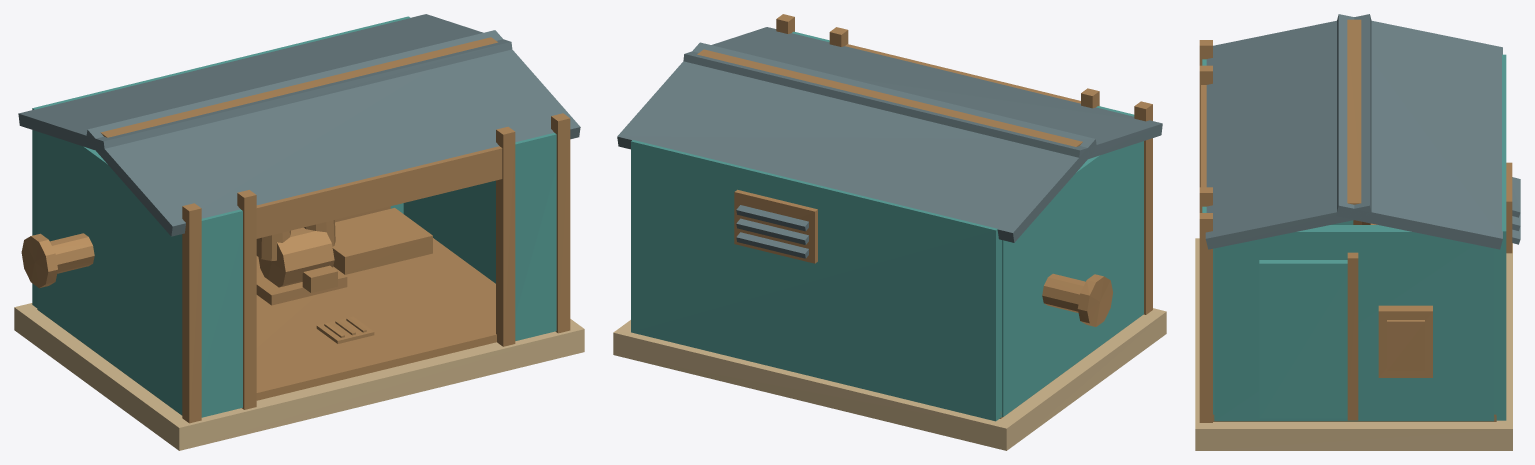
The model's file is Juicery.glb.
The picture shows the model from 3 angles, left to right: view 1: azimuth 30°, elevation 25°; view 2: azimuth 150°, elevation 25°; view 3: azimuth 270°, elevation 25°; orthographic projection. The views are drawn at different scales.
Visible parts, largest first — view 1: juicery-static-juicery-galvanized-roof-cooling, juicery-static-juicery-insulated-pale-panel, juicery-static-juicery-clean-stainless-equipment, juicery-static-juicery-dark-pump-service-trim, juicery-static-juicery-washable-stone-curb; view 2: juicery-static-juicery-insulated-pale-panel, juicery-static-juicery-galvanized-roof-cooling, juicery-static-juicery-washable-stone-curb, juicery-static-juicery-dark-pump-service-trim, juicery-static-juicery-clean-stainless-equipment; view 3: juicery-static-juicery-galvanized-roof-cooling, juicery-static-juicery-insulated-pale-panel, juicery-static-juicery-dark-pump-service-trim, juicery-static-juicery-washable-stone-curb, juicery-static-juicery-clean-stainless-equipment.
Part boxes in pixels (<box>): juicery-static-juicery-galvanized-roof-cooling: <box>18,14,580,236</box>; juicery-static-juicery-insulated-pale-panel: <box>32,16,556,417</box>; juicery-static-juicery-clean-stainless-equipment: <box>37,208,496,400</box>; juicery-static-juicery-dark-pump-service-trim: <box>21,37,570,423</box>; juicery-static-juicery-washable-stone-curb: <box>14,303,584,450</box>; juicery-static-juicery-insulated-pale-panel: <box>631,31,1143,421</box>; juicery-static-juicery-galvanized-roof-cooling: <box>617,27,1162,258</box>; juicery-static-juicery-washable-stone-curb: <box>613,308,1166,450</box>; juicery-static-juicery-dark-pump-service-trim: <box>697,14,1152,326</box>; juicery-static-juicery-clean-stainless-equipment: <box>999,273,1085,418</box>; juicery-static-juicery-galvanized-roof-cooling: <box>1205,14,1520,249</box>; juicery-static-juicery-insulated-pale-panel: <box>1202,54,1506,421</box>; juicery-static-juicery-dark-pump-service-trim: <box>1199,19,1512,422</box>; juicery-static-juicery-washable-stone-curb: <box>1195,238,1512,450</box>; juicery-static-juicery-clean-stainless-equipment: <box>1213,220,1496,421</box>.
Size of the model in its own units: 3.65 by 2 by 2.39.
